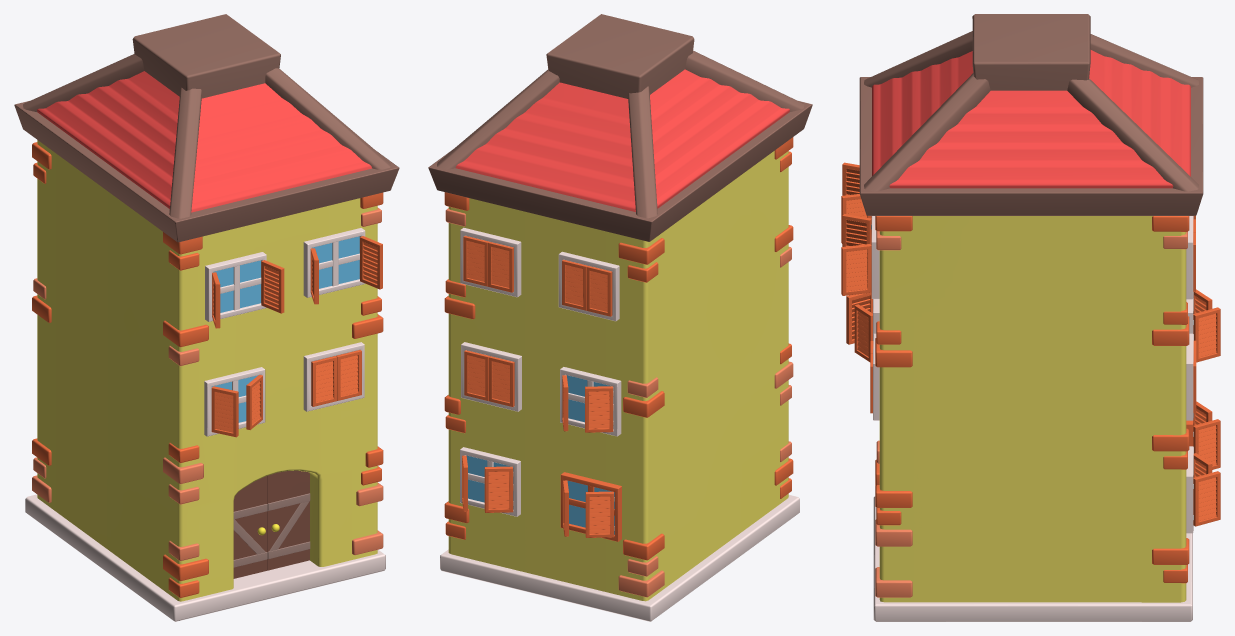
File: City_4_House_3.glb
The picture shows the model from 3 angles, left to right: view 1: azimuth 30°, elevation 25°; view 2: azimuth 150°, elevation 25°; view 3: azimuth 270°, elevation 25°; orthographic projection. The views are drawn at different scales.
Visible parts, largest first — view 1: City_4_House_3; view 2: City_4_House_3; view 3: City_4_House_3.
Part boxes in pixels (x1,y1,x2,y2): City_4_House_3: (14,14,399,621); City_4_House_3: (428,14,812,621); City_4_House_3: (841,14,1220,621).
Bounding box in the file's own units: 5.76 × 12.21 × 7.91.
1 material, 1 textured.
